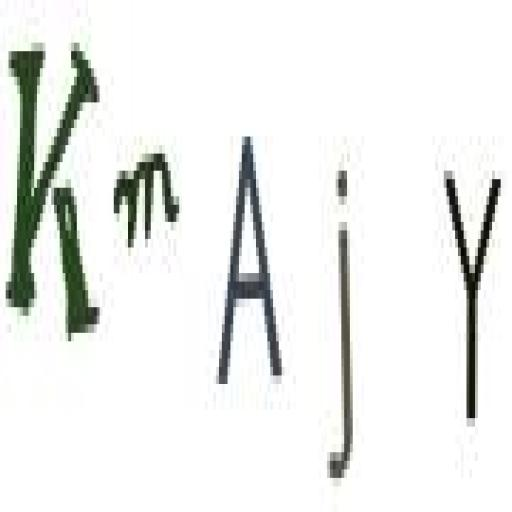A: (211, 120, 287, 403)
K: (5, 26, 105, 344)
Y: (440, 154, 503, 448)
j: (320, 152, 364, 490)
m: (112, 142, 186, 258)
